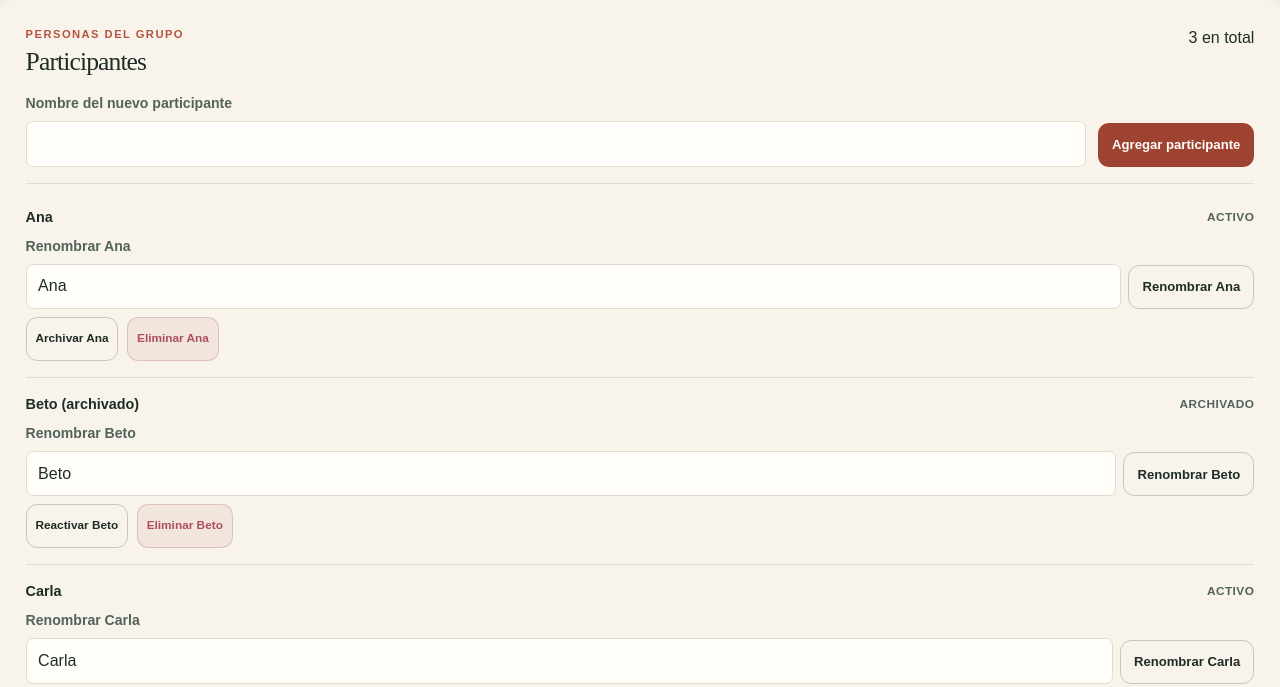
Test: participants panel › keeps a normalized rename conflict bound to the edited field
The image size is (1280, 687).
Replace the text in the field labelled "Renombrar Beto" with " ana " at [571, 474], box [26, 451, 1116, 496]
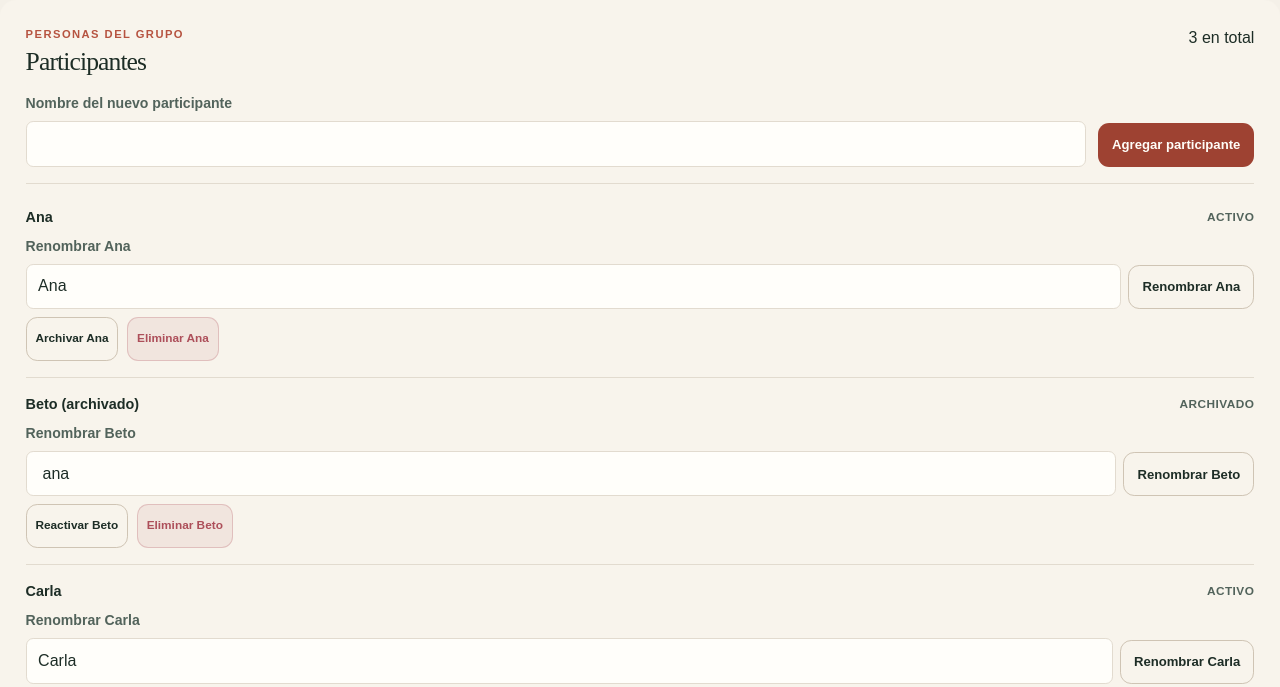
Click the button "Renombrar Beto" at [1189, 474], box [1124, 452, 1254, 496]
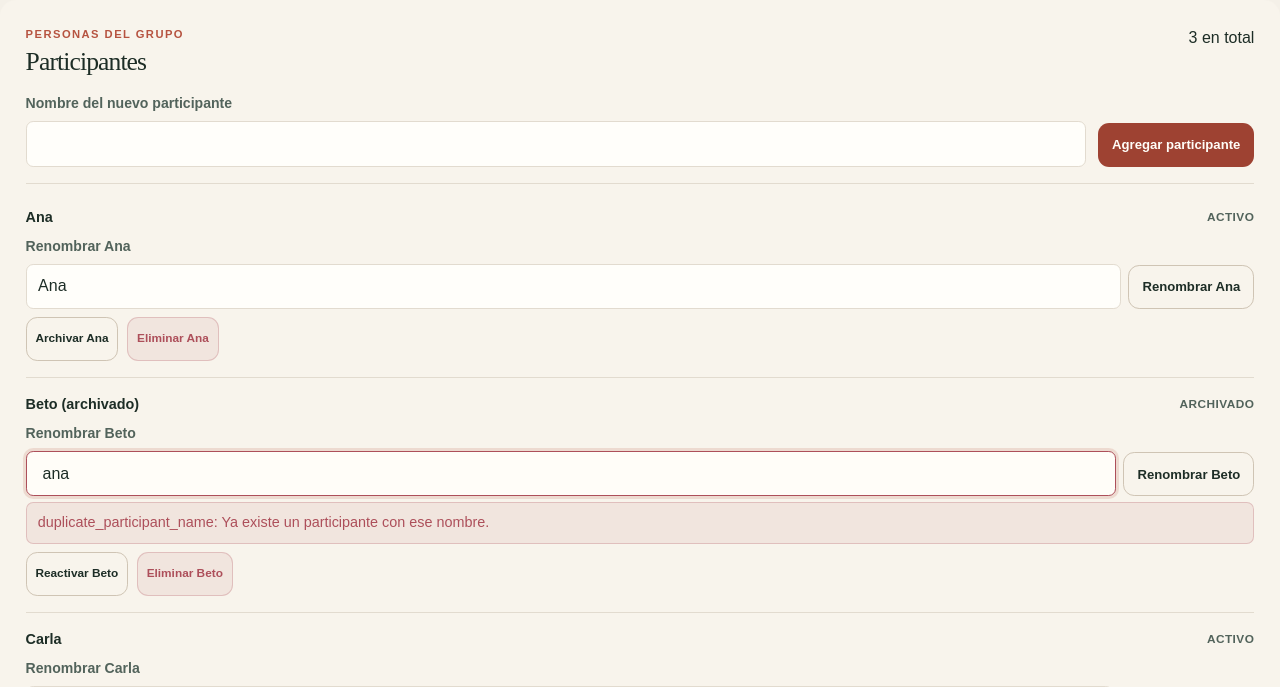
Check: the text "Beto (archivado)" is shown, box [26, 394, 139, 416]
Check: the text "duplicate_participant_name: Ya existe un participante con ese nombre." is shown, box [26, 502, 1254, 544]
